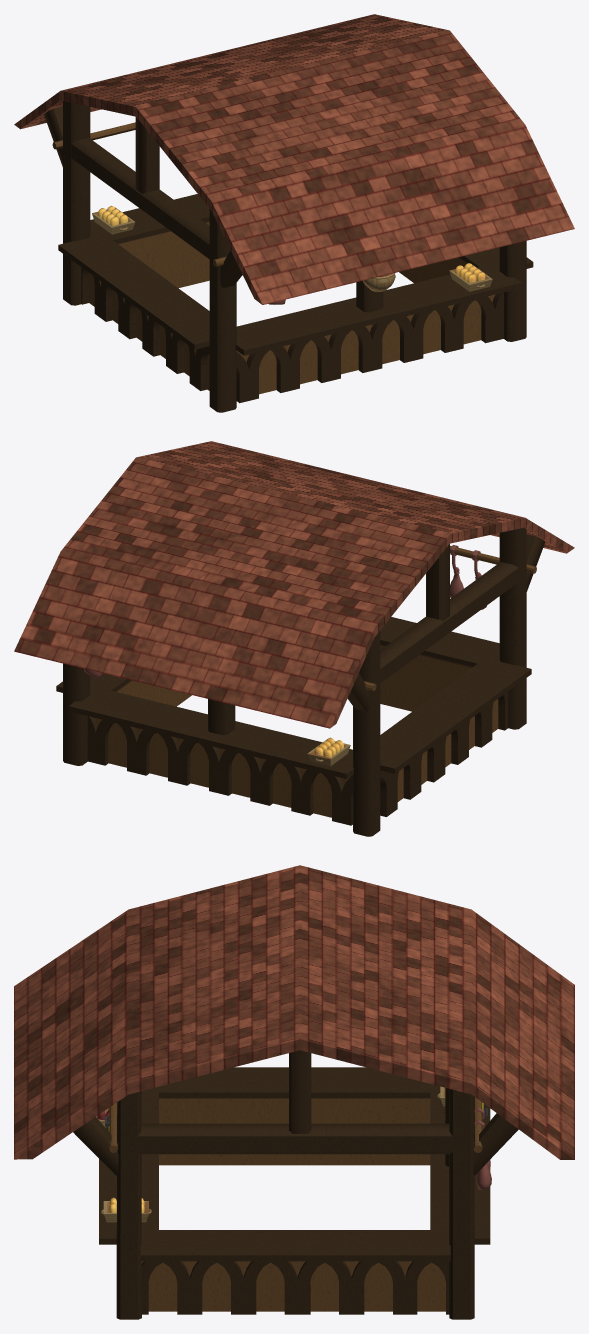
File: QuiosqueSteampunk.fbx
The picture shows the model from 3 angles, top to bottom: view 1: azimuth 30°, elevation 25°; view 2: azimuth 150°, elevation 25°; view 3: azimuth 270°, elevation 25°; orthographic projection. The views are drawn at different scales.
Visible parts, largest first — view 1: Quiosque, SausageBasket; view 2: Quiosque, SausageBasket, Pernil; view 3: Quiosque, SausageBasket.
Boxes of the visible parts, bbox=[...] form: Quiosque: bbox=[14, 14, 574, 412]; SausageBasket: bbox=[92, 205, 492, 291]; Quiosque: bbox=[14, 441, 574, 836]; SausageBasket: bbox=[307, 737, 350, 766]; Pernil: bbox=[84, 545, 486, 678]; Quiosque: bbox=[14, 865, 574, 1319]; SausageBasket: bbox=[96, 1086, 445, 1222].
Bounding box in the file's own units: 649 × 454 × 819.
